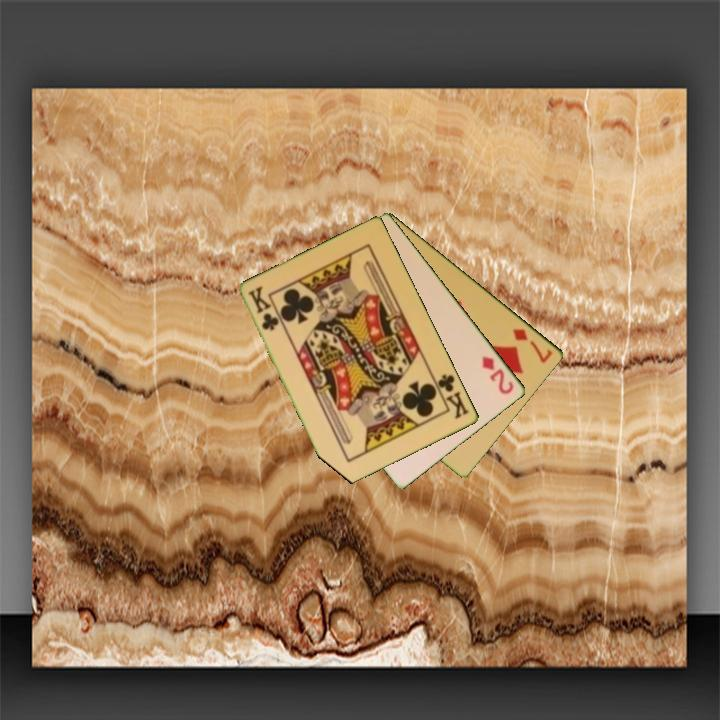2d: (479, 353, 517, 397)
7d: (509, 325, 556, 366)
Kc: (430, 370, 472, 422), (245, 283, 282, 334)
